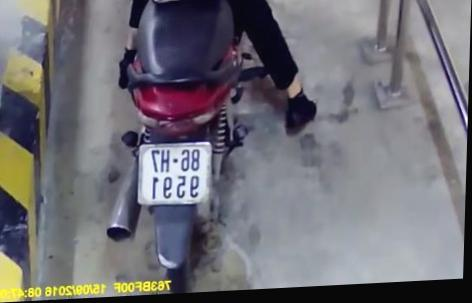License_Plate: (131, 137, 218, 212)
